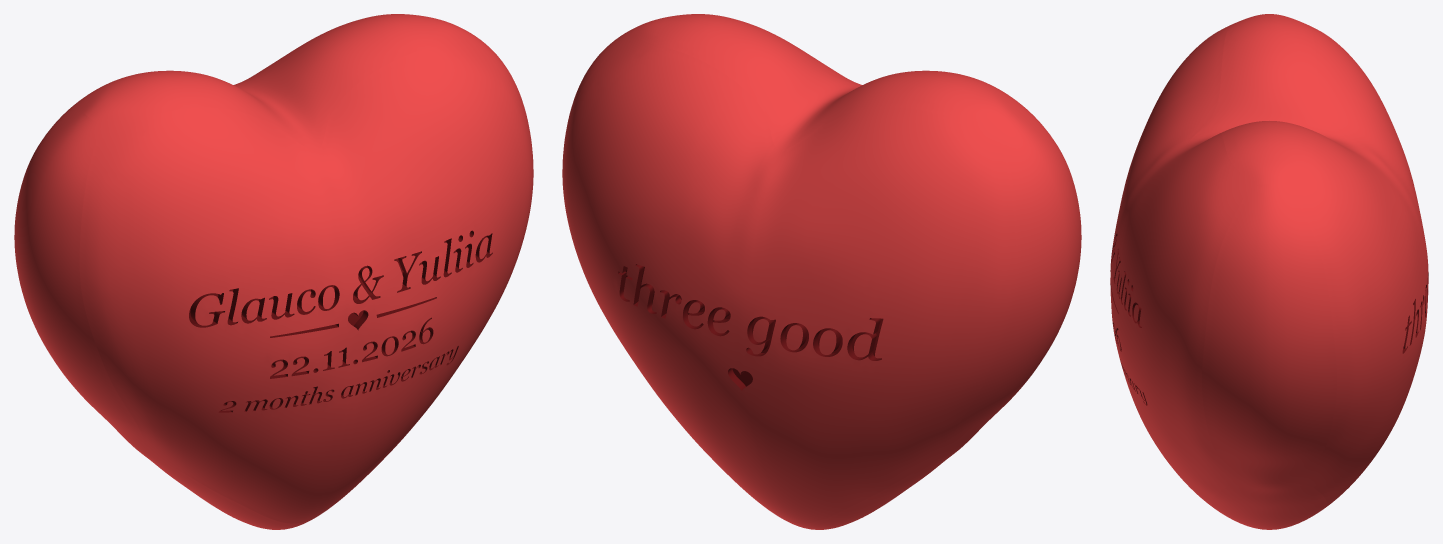
File: month-02.glb
The picture shows the model from 3 angles, left to right: view 1: azimuth 30°, elevation 25°; view 2: azimuth 150°, elevation 25°; view 3: azimuth 270°, elevation 25°; orthographic projection. The views are drawn at different scales.
Parts seen in each view (by area): view 1: Cuore_Glauco_Yuliia; view 2: Cuore_Glauco_Yuliia; view 3: Cuore_Glauco_Yuliia.
Part boxes in pixels (bbox=[...]): Cuore_Glauco_Yuliia: bbox=[14, 14, 533, 529]; Cuore_Glauco_Yuliia: bbox=[562, 14, 1081, 529]; Cuore_Glauco_Yuliia: bbox=[1110, 14, 1428, 529].
Size of the model in its own units: 1.72 by 1.58 by 1.03.
